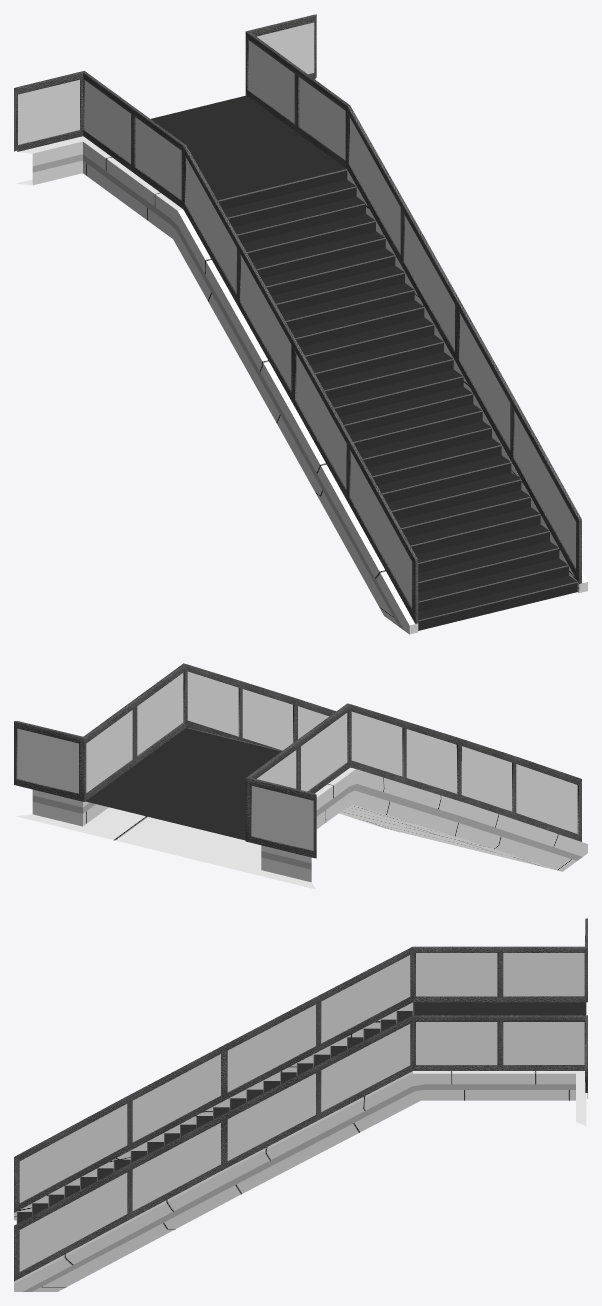
The model's file is Stairs04_45Deg265x950cm.FBX.
3 renders of one model, top to bottom at view 1: azimuth 30°, elevation 25°; view 2: azimuth 150°, elevation 25°; view 3: azimuth 270°, elevation 25°, orthographic. The views are drawn at different scales.
Visible parts, largest first — view 1: Stairs, Parapet; view 2: Parapet, Stairs; view 3: Parapet, Stairs.
Boxes of the visible parts, <box> form: Stairs: <box>151,95,577,630</box>; Parapet: <box>14,14,587,634</box>; Parapet: <box>14,663,587,889</box>; Stairs: <box>86,727,281,840</box>; Parapet: <box>14,918,587,1291</box>; Stairs: <box>16,1002,586,1223</box>.
Size of the model in its own units: 499 by 500 by 953.
